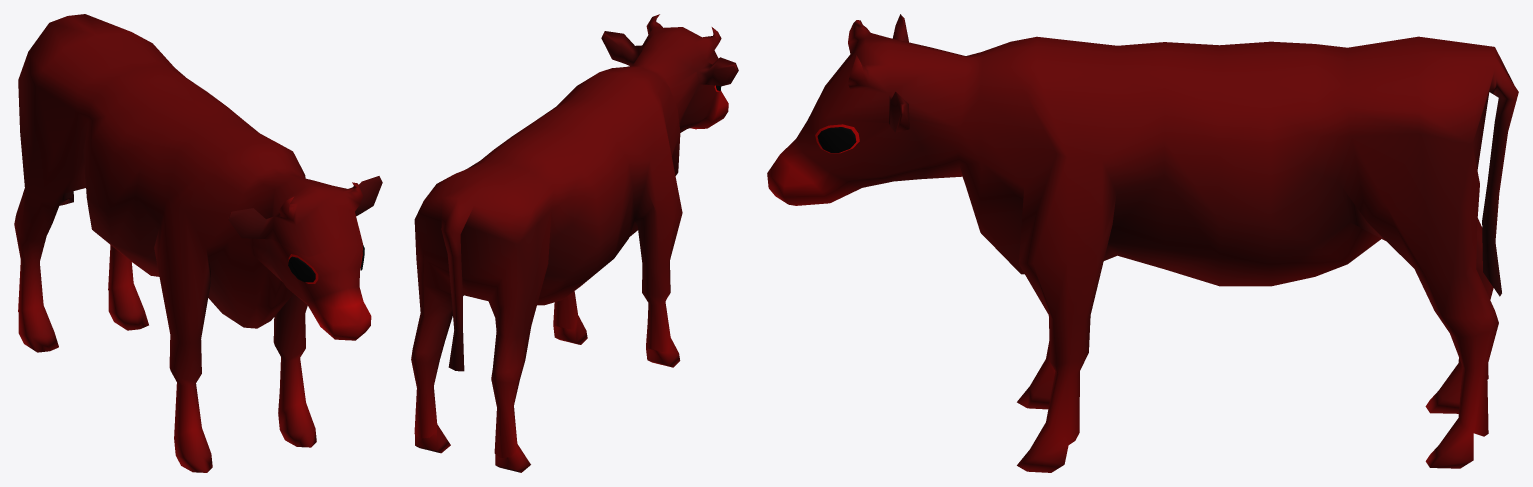
File: bull_brown.fbx
The picture shows the model from 3 angles, left to right: view 1: azimuth 30°, elevation 25°; view 2: azimuth 150°, elevation 25°; view 3: azimuth 270°, elevation 25°; orthographic projection. The views are drawn at different scales.
Visible parts, largest first — view 1: cow_brown; view 2: cow_brown; view 3: cow_brown.
Boxes of the visible parts, bbox=[...] form: cow_brown: bbox=[14, 14, 382, 472]; cow_brown: bbox=[411, 14, 738, 472]; cow_brown: bbox=[767, 14, 1518, 472].
Size of the model in its own units: 802 by 2714 by 1580.
